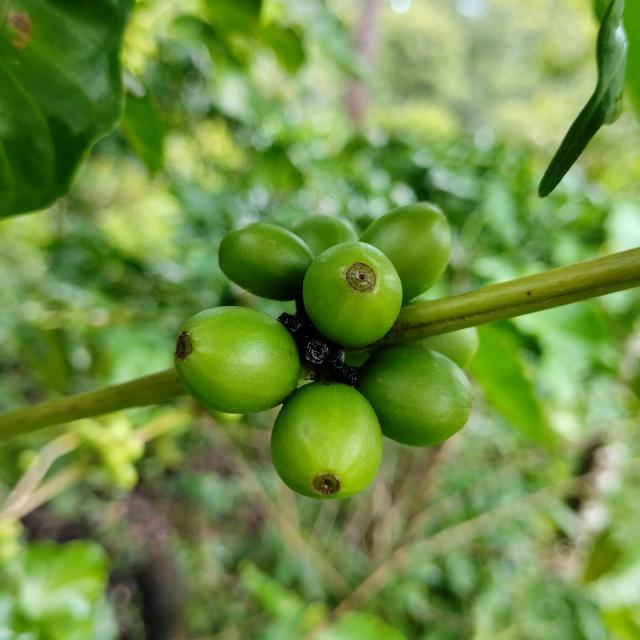green: (174, 306, 300, 414), (271, 382, 382, 500), (355, 341, 474, 447), (303, 241, 403, 347), (360, 202, 453, 304), (218, 222, 314, 301), (291, 214, 359, 257)
